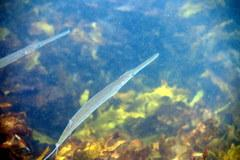Fistularia commersonii: (41, 53, 173, 153), (0, 29, 96, 82)
